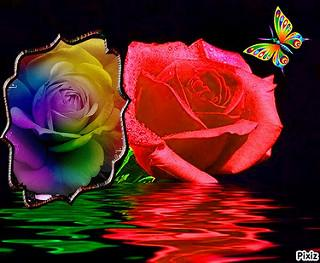Rose: (125, 39, 283, 187), (0, 28, 129, 205)
